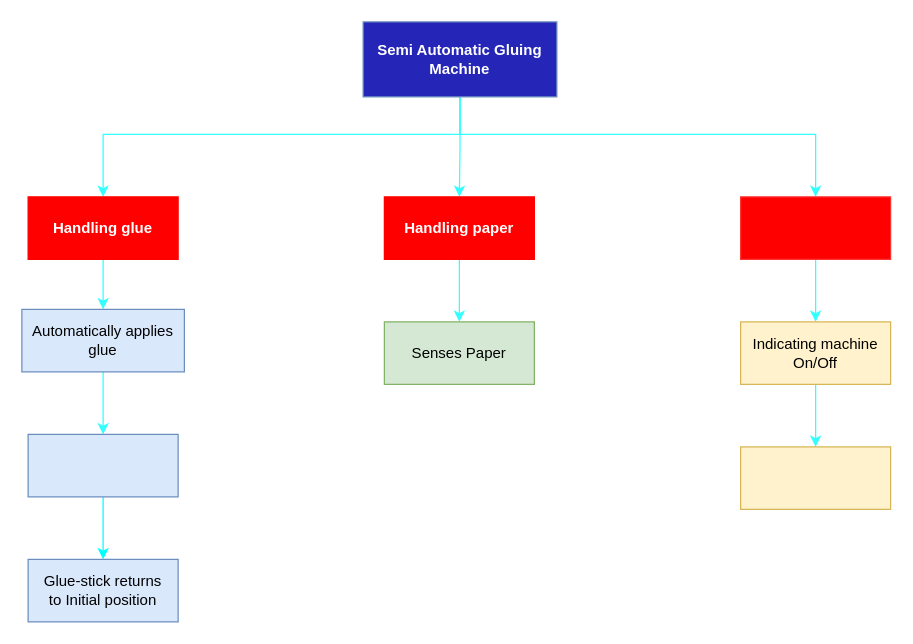
Some shapes in this 913 by 644 pixel diagram are drawn without their labels. The shapes that lost their labels are listed below. From the top down, each one's centre as x and y in pixels, then its label:
pixel 815 227: Indicator
pixel 102 465: Allows refilling
pixel 815 477: Indication after gluing
